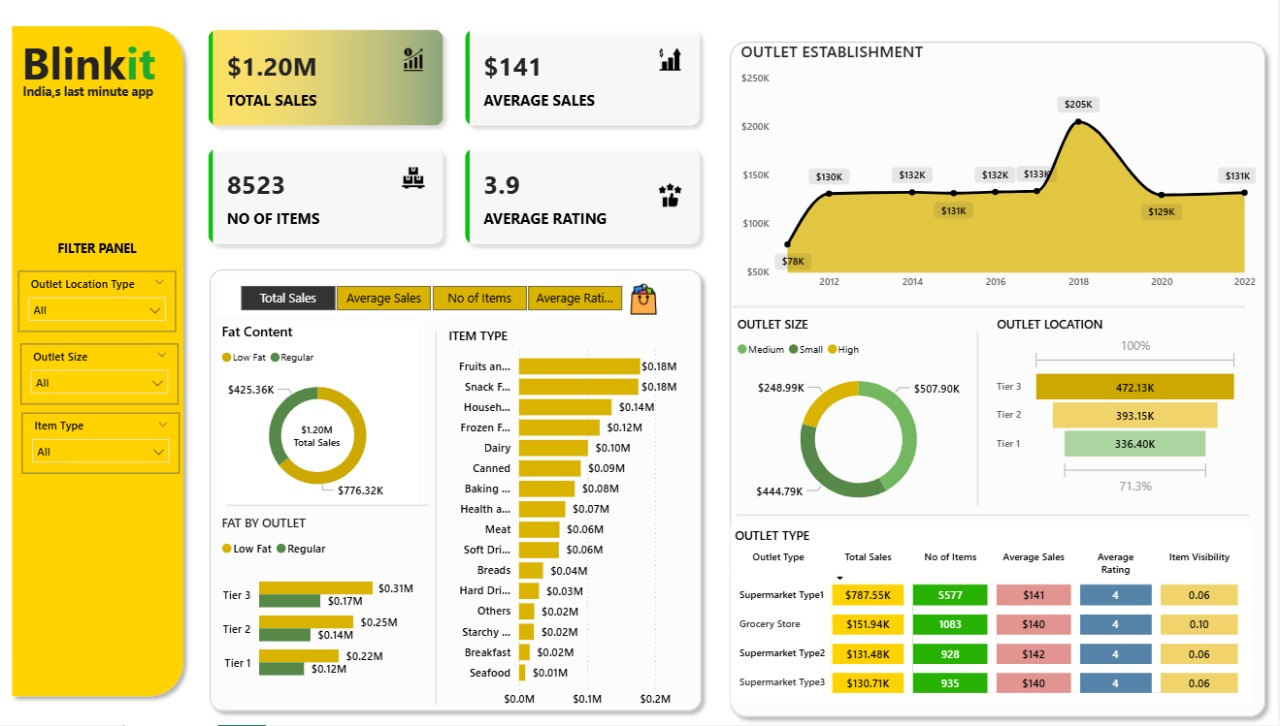

The page's visual inventory and layout, read from the dashboard file:
{"tool":"powerbi","page":{"name":"Report","canvas":[1400,800],"ordinal":0},"visuals":[{"type":"shape","box":[9.3,27.8,205,750],"z":0},{"type":"textbox","box":[23.8,38.4,177.2,86],"z":1000},{"type":"textbox","box":[25.1,93.9,175.9,30.4],"z":2000},{"type":"cardVisual","fields":{"Data":["BlinkIT Grocery Data.Total Sales","BlinkIT Grocery Data.Average Sales","BlinkIT Grocery Data.No of Items","BlinkIT Grocery Data.Average Rating"]},"box":[215.6,23.8,570.1,269.8],"z":3000},{"type":"shape","box":[224.9,293.7,554.2,500],"z":4000},{"type":"donutChart","title":"Fat Content","fields":{"Y":["BlinkIT Grocery Data.Total Sales"],"Category":["BlinkIT Grocery Data.Item Fat Content"]},"box":[242.1,359.8,219.6,201.1],"z":5000},{"type":"slicer","fields":{"Values":["Metric.Metric"]},"box":[242.1,313.5,465.6,39.7],"z":6000},{"type":"cardVisual","fields":{"Data":["BlinkIT Grocery Data.Total Sales"]},"box":[300.3,453.7,101.9,51.6],"z":7000},{"type":"clusteredBarChart","title":"FAT BY OUTLET","fields":{"Y":["BlinkIT Grocery Data.Total Sales"],"Category":["BlinkIT Grocery Data.Outlet Location Type"],"Series":["BlinkIT Grocery Data.Item Fat Content"]},"box":[242.1,570.1,219.6,197.1],"z":8000},{"type":"shape","box":[252.6,550.3,219.6,19.8],"z":9000},{"type":"shape","box":[472.2,370.4,17.2,407.4],"z":10000},{"type":"barChart","title":"ITEM TYPE","fields":{"Y":["BlinkIT Grocery Data.Total Sales"],"Category":["BlinkIT Grocery Data.Item Type"]},"box":[489.4,365.1,276.5,424.6],"z":11000},{"type":"shape","box":[792.3,45,601.9,755.3],"z":12000},{"type":"lineChart","title":"OUTLET ESTABLISHMENT","fields":{"Category":["BlinkIT Grocery Data.Outlet Establishment Year"],"Y":["BlinkIT Grocery Data.Total Sales"]},"box":[808.2,52.9,571.4,280.4],"z":13000},{"type":"shape","box":[804.2,333.3,559.5,19.8],"z":14000},{"type":"donutChart","title":"OUTLET SIZE","fields":{"Y":["BlinkIT Grocery Data.Total Sales"],"Category":["BlinkIT Grocery Data.Outlet Size"]},"box":[804.2,353.2,275.1,224.9],"z":15000},{"type":"shape","box":[1063.5,370.4,15.9,190.5],"z":16000},{"type":"funnel","title":"OUTLET LOCATION","fields":{"Y":["Sum(BlinkIT Grocery Data.Sales)"],"Category":["BlinkIT Grocery Data.Outlet Location Type"]},"box":[1087.3,353.2,273.8,199.7],"z":17000},{"type":"shape","box":[808.2,560.8,559.5,19.8],"z":18000},{"type":"pivotTable","title":"OUTLET TYPE","fields":{"Rows":["BlinkIT Grocery Data.Outlet Type"],"Values":["BlinkIT Grocery Data.Total Sales","BlinkIT Grocery Data.No of Items","BlinkIT Grocery Data.Average Sales","BlinkIT Grocery Data.Average Rating","Avg(BlinkIT Grocery Data.Item Visibility)"]},"box":[801.6,583.3,571.4,193.1],"z":19000},{"type":"slicer","fields":{"Values":["BlinkIT Grocery Data.Outlet Location Type"]},"box":[25.1,304.2,172,66.1],"z":20000},{"type":"slicer","fields":{"Values":["BlinkIT Grocery Data.Outlet Size"]},"box":[27.8,383.6,172,66.1],"z":21000},{"type":"slicer","fields":{"Values":["BlinkIT Grocery Data.Item Type"]},"box":[29.1,459,172,66.1],"z":22000},{"type":"textbox","box":[45,265.9,132.3,27.8],"z":23000},{"type":"image","box":[683.9,313.5,46.3,43.7],"z":24000}]}

Visuals, with their boxes in screenshot pixels (x1, y1, x2, y2), scaled from the page's 1400x800 canvas onto the 1280x726 screenshot:
shape: <region>9, 25, 196, 706</region>
textbox: <region>22, 35, 184, 113</region>
textbox: <region>23, 85, 184, 113</region>
cardVisual - BlinkIT Grocery Data.Total Sales x BlinkIT Grocery Data.Average Sales: <region>197, 22, 718, 266</region>
shape: <region>206, 267, 712, 720</region>
"Fat Content" donutChart: <region>221, 327, 422, 509</region>
slicer - Metric.Metric: <region>221, 285, 647, 321</region>
cardVisual - BlinkIT Grocery Data.Total Sales: <region>275, 412, 368, 459</region>
"FAT BY OUTLET" clusteredBarChart: <region>221, 517, 422, 696</region>
shape: <region>231, 499, 432, 517</region>
shape: <region>432, 336, 447, 706</region>
"ITEM TYPE" barChart: <region>447, 331, 700, 717</region>
shape: <region>724, 41, 1275, 725</region>
"OUTLET ESTABLISHMENT" lineChart: <region>739, 48, 1261, 302</region>
shape: <region>735, 302, 1247, 320</region>
"OUTLET SIZE" donutChart: <region>735, 321, 987, 525</region>
shape: <region>972, 336, 987, 509</region>
"OUTLET LOCATION" funnel: <region>994, 321, 1244, 502</region>
shape: <region>739, 509, 1250, 527</region>
"OUTLET TYPE" pivotTable: <region>733, 529, 1255, 705</region>
slicer - BlinkIT Grocery Data.Outlet Location Type: <region>23, 276, 180, 336</region>
slicer - BlinkIT Grocery Data.Outlet Size: <region>25, 348, 183, 408</region>
slicer - BlinkIT Grocery Data.Item Type: <region>27, 417, 184, 477</region>
textbox: <region>41, 241, 162, 267</region>
image: <region>625, 285, 668, 324</region>
